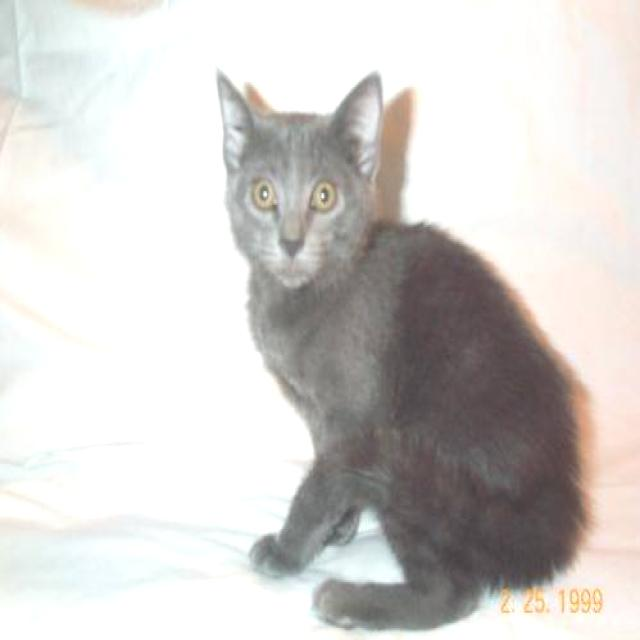Kucing: (176, 43, 604, 632)
